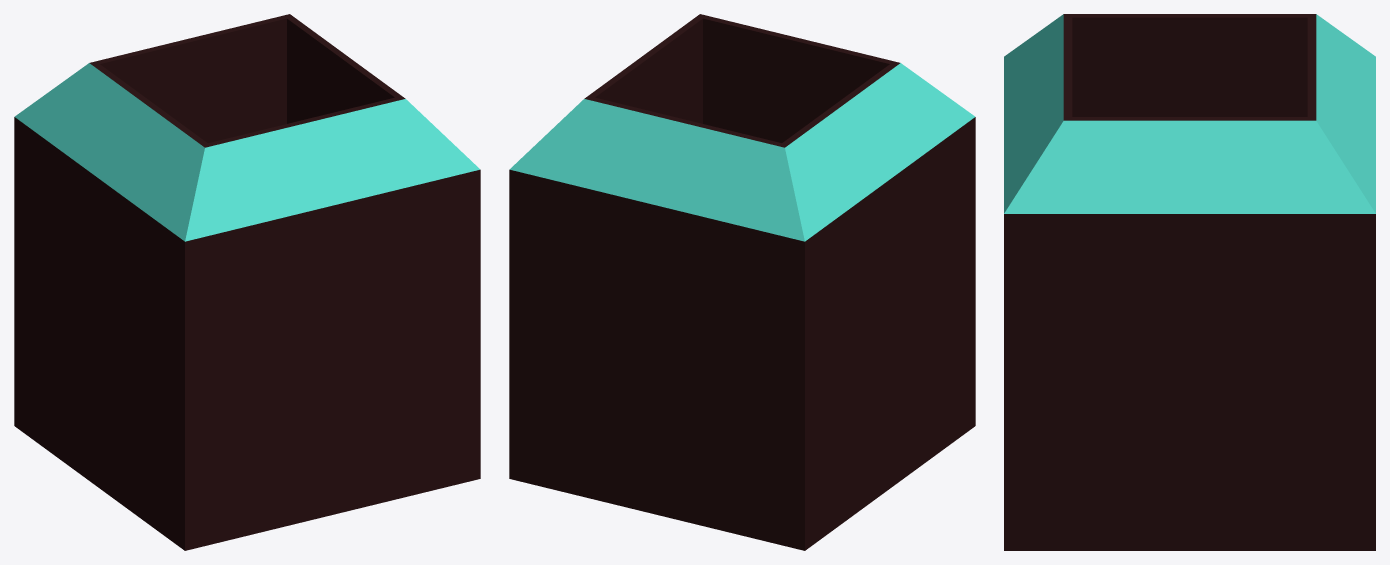
3 views of the same model, side by side, from view 1: azimuth 30°, elevation 25°; view 2: azimuth 150°, elevation 25°; view 3: azimuth 270°, elevation 25° (orthographic). The views are drawn at different scales.
Visible parts, largest first — view 1: Cube; view 2: Cube; view 3: Cube.
Boxes of the visible parts, x1=… form: Cube: x1=14, y1=14, x2=480, y2=550; Cube: x1=509, y1=14, x2=975, y2=550; Cube: x1=1004, y1=14, x2=1375, y2=550.
Size of the model in its own units: 2 by 2.4 by 2.
Materials: 1 (1 with a texture image).
